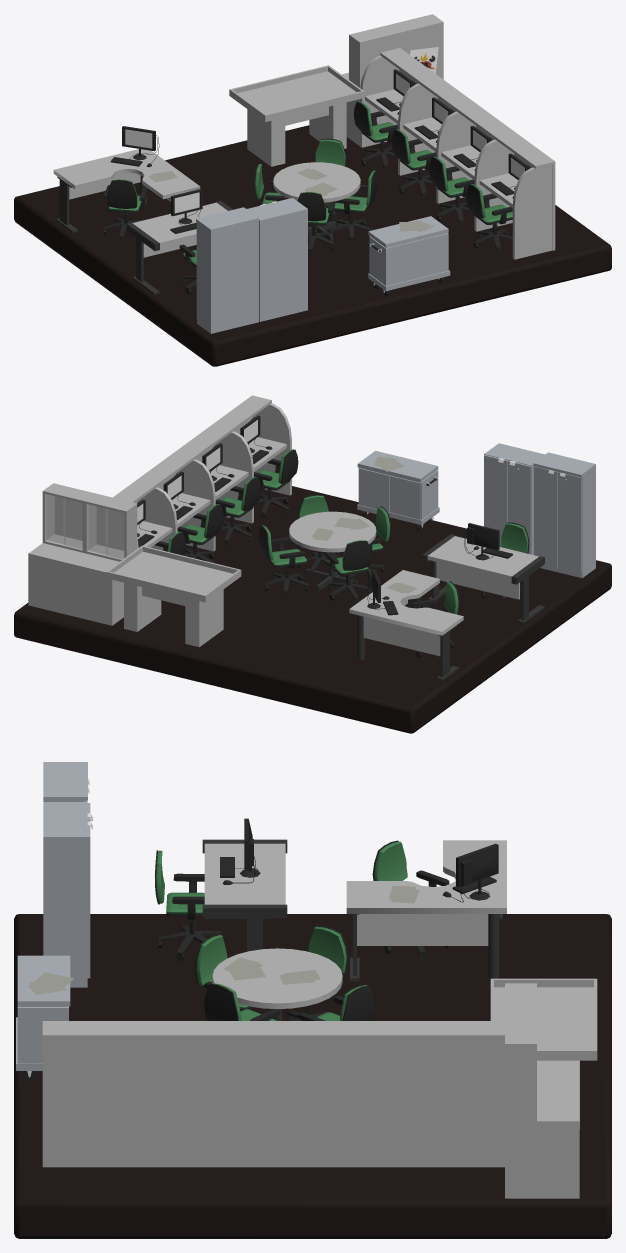
Rendered from Co-Work.fbx.
The picture shows the model from 3 angles, top to bottom: view 1: azimuth 30°, elevation 25°; view 2: azimuth 150°, elevation 25°; view 3: azimuth 270°, elevation 25°; orthographic projection. The views are drawn at different scales.
Visible parts, largest first — view 1: Chao Cowork, Plano.016, Plano.006, Cilindro.003, Cubo.012, Cubo.028, Plano.024, Plano.027, Cubo.027, Cubo.018, Cubo.019, Cubo.021 (+12 smaller); view 2: Chao Cowork, Plano.016, Plano.006, Cilindro.003, Plano.024, Plano.027, Cubo.028, Cubo.012, Cubo.027, Cubo.023, Cubo.022, Cubo.019 (+11 smaller); view 3: Chao Cowork, Plano.016, Plano.024, Cubo.012, Plano.027, Plano.006, Cubo.027, Cubo.028, Cubo.017, Cilindro.028, Cilindro.003, Cubo.085 (+7 smaller).
Part boxes in pixels (<box>): Chao Cowork: <box>14,125,611,366</box>; Plano.016: <box>341,14,555,259</box>; Plano.006: <box>229,65,364,166</box>; Cilindro.003: <box>196,207,258,333</box>; Cubo.012: <box>247,198,307,321</box>; Cubo.028: <box>368,216,450,295</box>; Plano.024: <box>53,149,200,232</box>; Plano.027: <box>126,201,232,294</box>; Cubo.027: <box>273,162,360,241</box>; Cubo.018: <box>466,183,512,253</box>; Cubo.019: <box>429,156,474,225</box>; Cubo.021: <box>353,101,397,170</box>; Chao Cowork: <box>14,486,611,733</box>; Plano.016: <box>28,395,291,625</box>; Plano.006: <box>106,545,241,647</box>; Cilindro.003: <box>533,452,595,578</box>; Plano.024: <box>349,570,463,681</box>; Plano.027: <box>422,534,544,623</box>; Cubo.028: <box>357,450,439,530</box>; Cubo.012: <box>484,443,544,554</box>; Cubo.027: <box>289,511,376,591</box>; Cubo.023: <box>325,540,372,603</box>; Cubo.022: <box>259,525,308,596</box>; Cubo.019: <box>215,476,261,545</box>; Chao Cowork: <box>14,914,611,1238</box>; Plano.016: <box>42,983,579,1198</box>; Plano.024: <box>346,840,506,981</box>; Cubo.012: <box>43,802,92,987</box>; Plano.027: <box>202,839,287,982</box>; Plano.006: <box>490,978,597,1128</box>; Cubo.027: <box>212,948,342,1020</box>; Cubo.028: <box>16,955,70,1081</box>; Cubo.017: <box>154,850,222,961</box>; Cilindro.028: <box>443,843,498,902</box>; Cilindro.003: <box>43,762,89,801</box>; Cubo.085: <box>372,840,449,960</box>.
Size of the model in its own units: 645 by 200 by 560.
